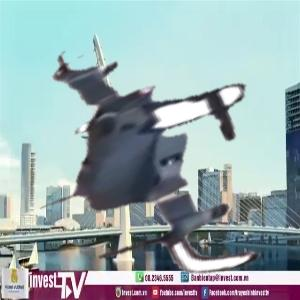drone: (22, 19, 300, 298)
